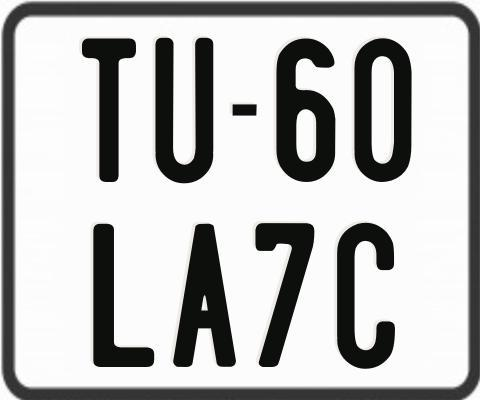0: (353, 36, 416, 184)
6: (275, 37, 339, 187)
7: (254, 220, 313, 370)
A: (170, 223, 235, 369)
C: (337, 220, 395, 368)
L: (91, 224, 158, 369)
T: (79, 38, 133, 182)
U: (155, 35, 214, 186)
